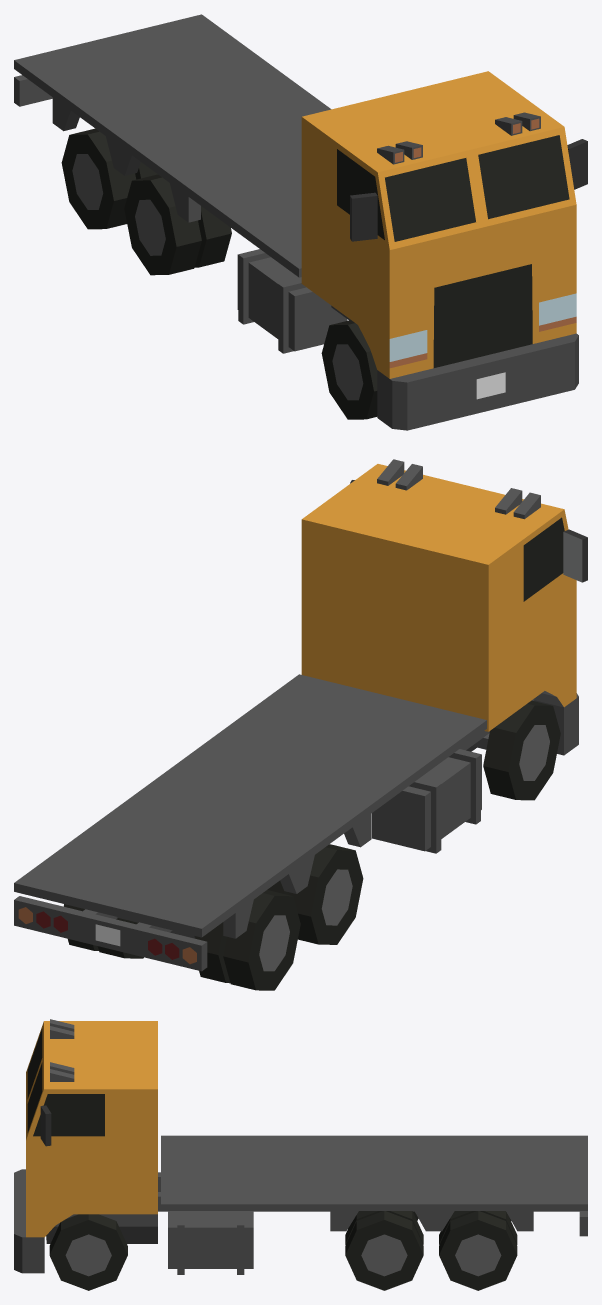
The model's file is Veh_Truck_03_Flat_Yellow.obj.
3 renders of one model, top to bottom at view 1: azimuth 30°, elevation 25°; view 2: azimuth 150°, elevation 25°; view 3: azimuth 270°, elevation 25°, orthographic. The views are drawn at different scales.
Bounding box in the file's own units: 1.68 × 1.92 × 4.74.
